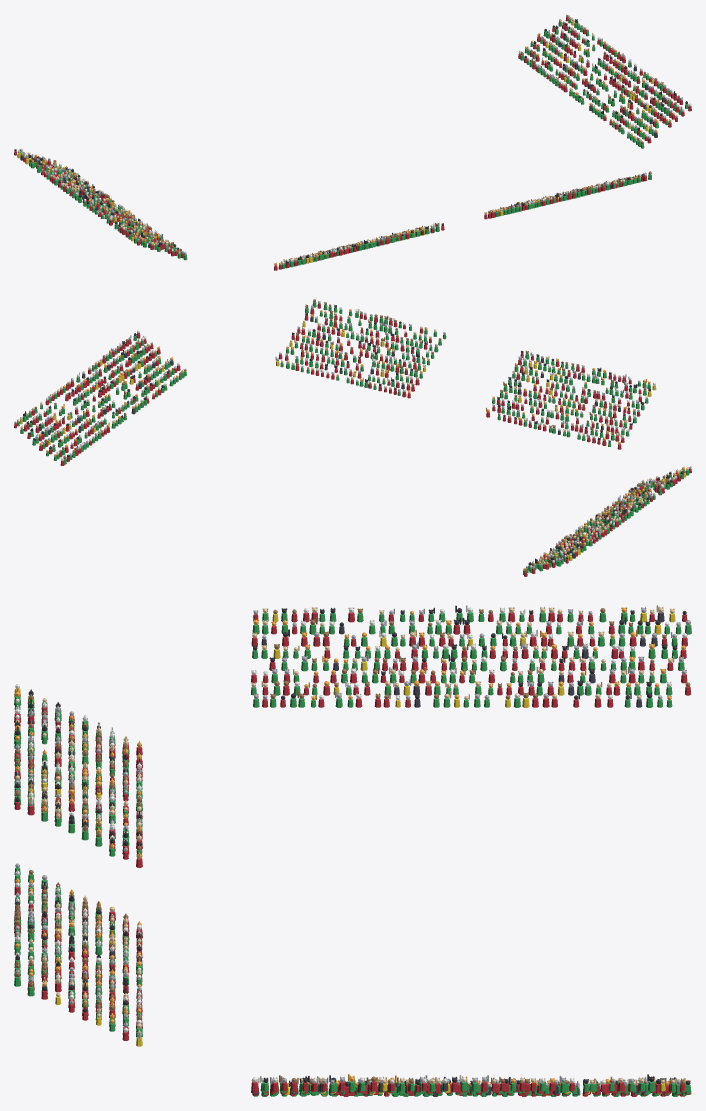
File: SM_Zoo_Crowd.glb
3 views of the same model, one above another, from view 1: azimuth 30°, elevation 25°; view 2: azimuth 150°, elevation 25°; view 3: azimuth 270°, elevation 25° (orthographic). The views are drawn at different scales.
Parts seen in each view (by area): view 1: SM_Zoo_Crowd; view 2: SM_Zoo_Crowd; view 3: SM_Zoo_Crowd.
Boxes of the visible parts, left/top/right/bottom form: SM_Zoo_Crowd: left=14, top=14, right=691, bottom=270; SM_Zoo_Crowd: left=14, top=299, right=691, bottom=576; SM_Zoo_Crowd: left=14, top=605, right=691, bottom=1096.
Size of the model in its own units: 70.11 by 5.14 by 42.58.
